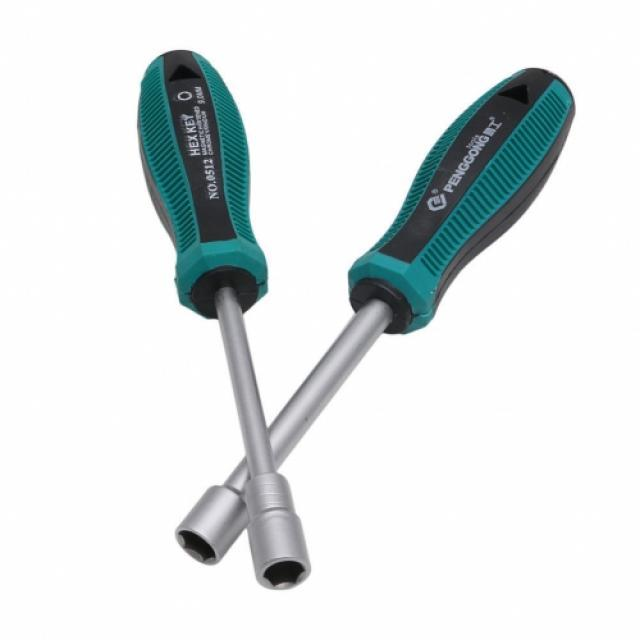screwdriver: (171, 58, 581, 574), (129, 42, 314, 596)
